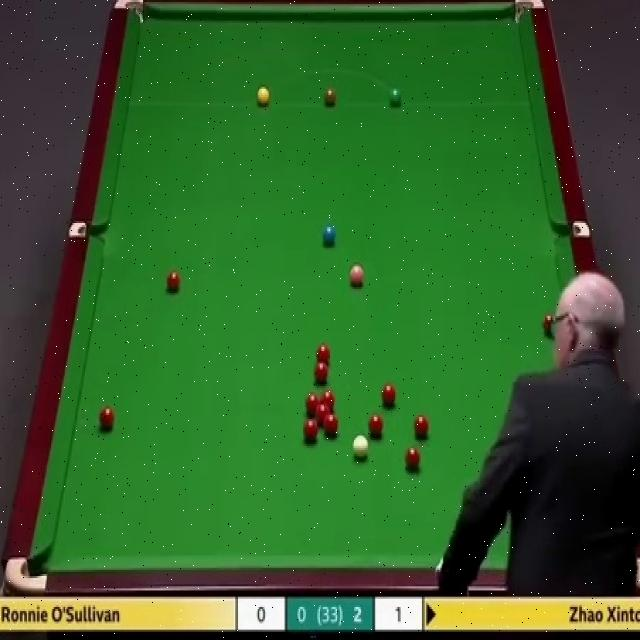blue-ball: (321, 224, 337, 247)
brown-ball: (324, 86, 336, 107)
green-ball: (388, 86, 401, 107)
pink-ball: (347, 262, 367, 291)
red-ball: (404, 447, 423, 474), (380, 382, 398, 408), (99, 406, 116, 431), (367, 414, 384, 439), (413, 415, 430, 440), (166, 269, 183, 292), (303, 419, 318, 442), (323, 415, 338, 438), (314, 362, 329, 385), (304, 396, 320, 417), (542, 313, 556, 337), (320, 390, 336, 410), (314, 348, 330, 367), (316, 404, 330, 423)
white-ball: (351, 437, 369, 462)
yellow-ball: (257, 87, 270, 107)
